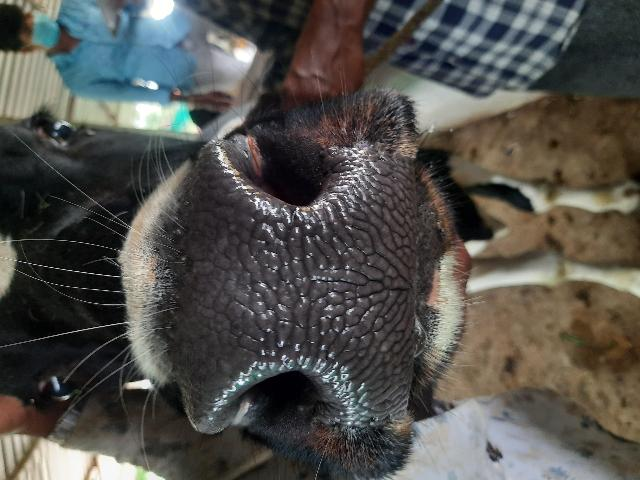Muzzle: (173, 178, 415, 382)
